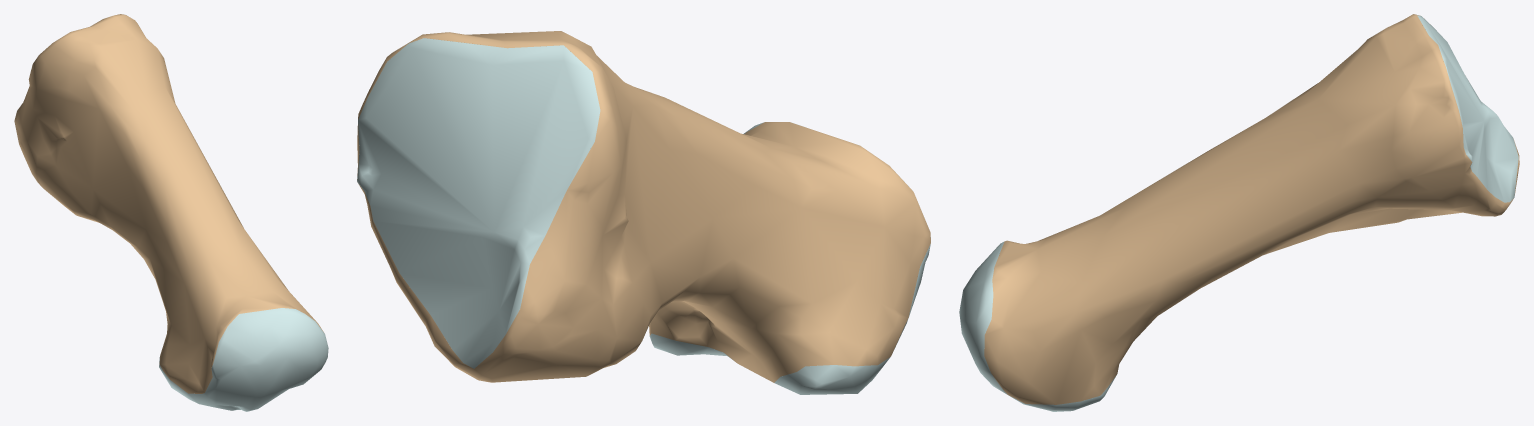
Rendered from 1st_metatarsal_bone.r_Generated_Mesh_From_X3D.935.glb.
The picture shows the model from 3 angles, left to right: view 1: azimuth 30°, elevation 25°; view 2: azimuth 150°, elevation 25°; view 3: azimuth 270°, elevation 25°; orthographic projection. The views are drawn at different scales.
Parts seen in each view (by area): view 1: 1st_metatarsal_bone.r_Generated_Mesh_From_X3D.935; view 2: 1st_metatarsal_bone.r_Generated_Mesh_From_X3D.935; view 3: 1st_metatarsal_bone.r_Generated_Mesh_From_X3D.935.
Boxes of the visible parts, x1,y1,x2,y2 form: 1st_metatarsal_bone.r_Generated_Mesh_From_X3D.935: (14, 14, 328, 411); 1st_metatarsal_bone.r_Generated_Mesh_From_X3D.935: (357, 31, 930, 394); 1st_metatarsal_bone.r_Generated_Mesh_From_X3D.935: (959, 14, 1519, 411).
Bounding box in the file's own units: 0.0218 × 0.0449 × 0.0636.
